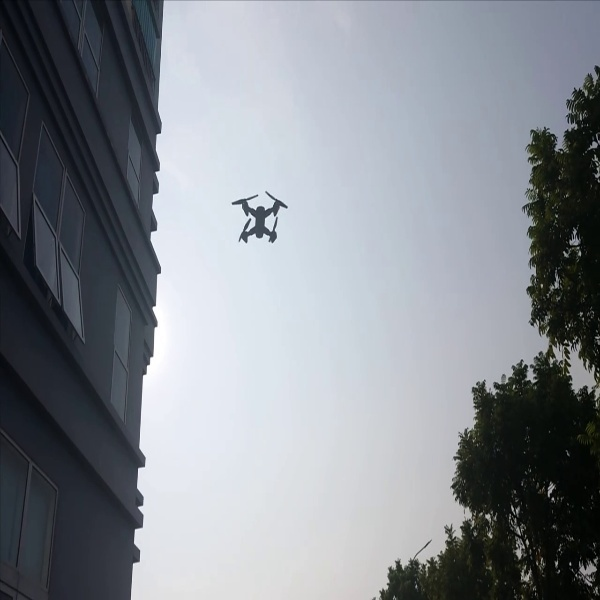drone: (221, 184, 295, 254)
